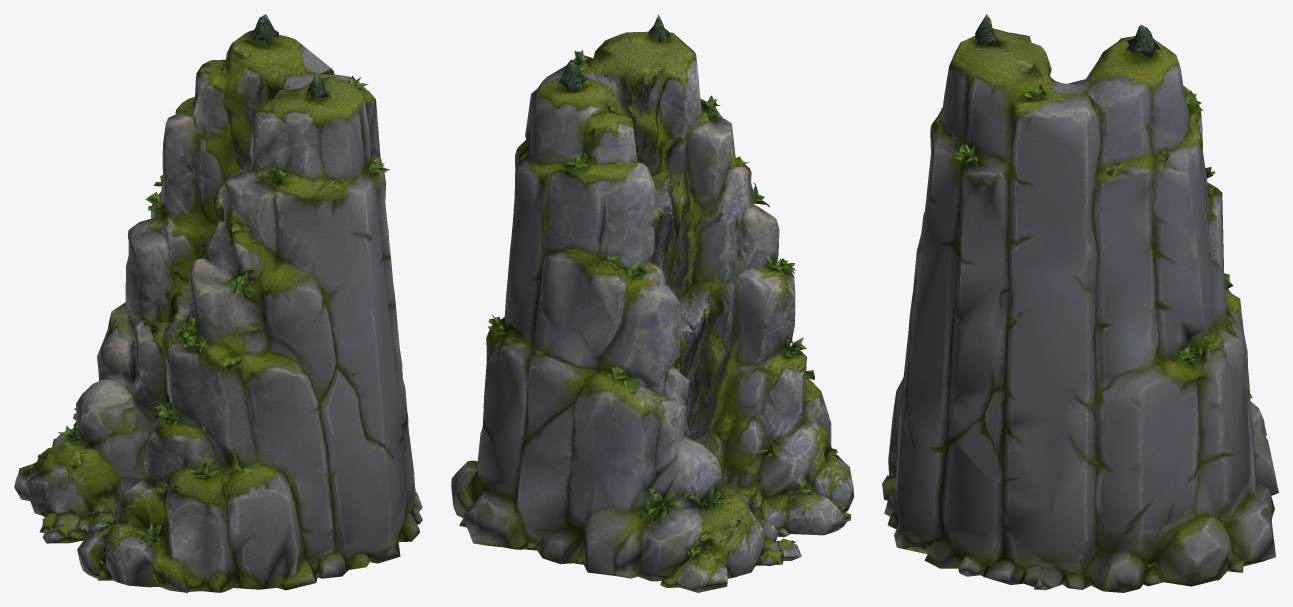
The model's file is env-fallcliff-lake.glb.
3 renders of one model, left to right at view 1: azimuth 30°, elevation 25°; view 2: azimuth 150°, elevation 25°; view 3: azimuth 270°, elevation 25°, orthographic. The views are drawn at different scales.
Visible parts, largest first — view 1: tripo_node_23a9c1d5-0ebb-4d7f-b3b5-0f4f87e3927f; view 2: tripo_node_23a9c1d5-0ebb-4d7f-b3b5-0f4f87e3927f; view 3: tripo_node_23a9c1d5-0ebb-4d7f-b3b5-0f4f87e3927f.
Boxes of the visible parts, box(x1,y1,x2,y2) form: tripo_node_23a9c1d5-0ebb-4d7f-b3b5-0f4f87e3927f: box(14, 14, 422, 592); tripo_node_23a9c1d5-0ebb-4d7f-b3b5-0f4f87e3927f: box(451, 14, 853, 592); tripo_node_23a9c1d5-0ebb-4d7f-b3b5-0f4f87e3927f: box(882, 14, 1278, 592).
Bounding box in the file's own units: 0.7535 × 0.9913 × 0.6977.
1 material, 1 textured.
